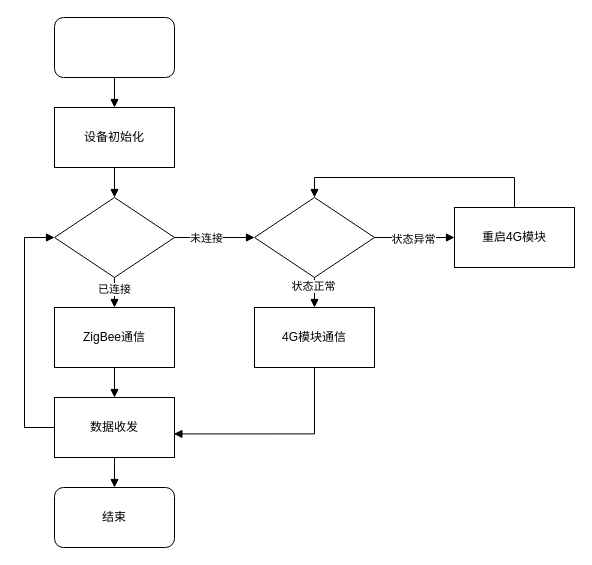
This 592x565 diagram has some shape labels left out. Here are the shapes that lost their labels. From the top down, the centre of each, then its label:
At (x=114, y=47): "开始".
At (x=114, y=237): "组网状态检查".
At (x=314, y=237): "4G状态检查".
